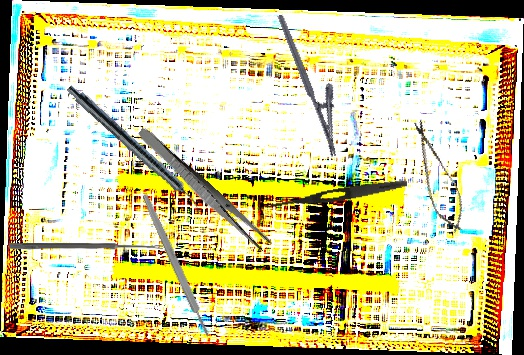Dressing Forceps: (133, 125, 274, 255), (263, 176, 409, 215)
Handpiece: (62, 82, 208, 216)
Micro Scissor: (402, 114, 473, 239)
Needle Holder: (276, 6, 357, 158)
Scalpel Handle: (140, 192, 212, 339)
Surgical Spoon: (9, 243, 163, 250)
